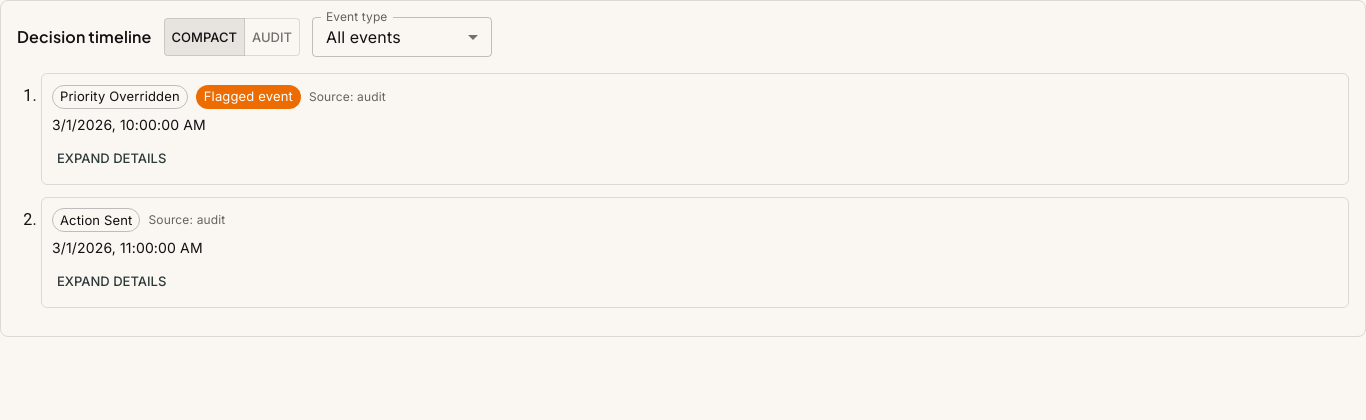
Test case: DecisionTimeline › supports per-entry expand/collapse with aria-expanded and placeholder fallbacks
The image size is (1366, 420).
What coordinates should you click on to do the following:
click the button "Expand details" below "Action Sent"
I would click on:
 (112, 282)
Its box is x1=52 y1=266 x2=171 y2=297.
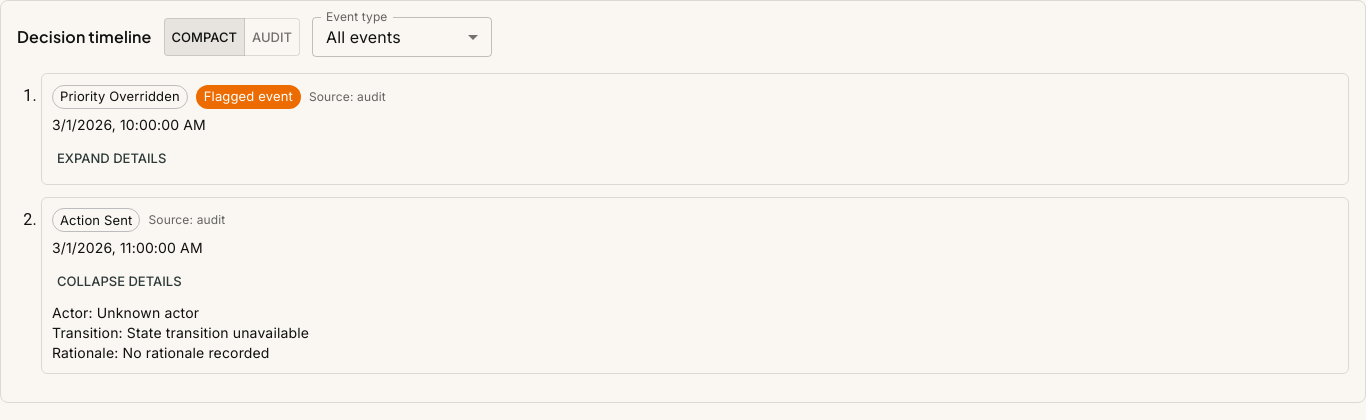
Check: the button named "Expand details" is expanded, box x1=52 y1=266 x2=187 y2=297
Check: the text "Actor: Unknown actor" is shown, box x1=52 y1=304 x2=199 y2=321
Check: the text "Rationale: No rationale recorded" is shown, box x1=52 y1=344 x2=270 y2=361
